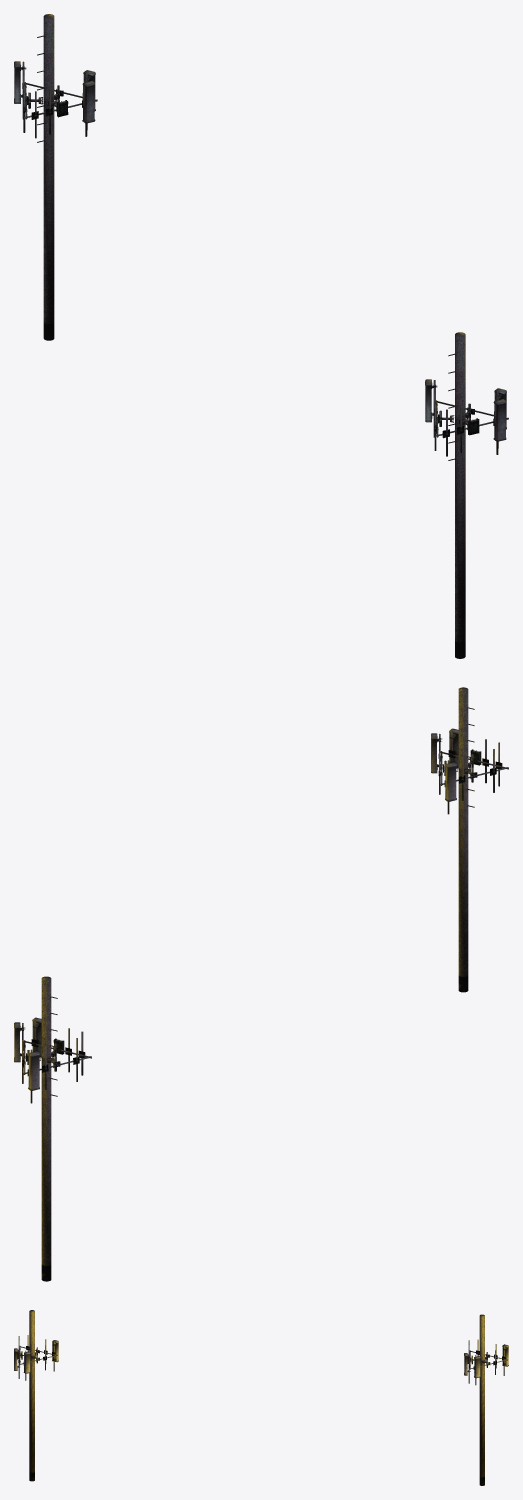
3 renders of one model, top to bottom at view 1: azimuth 30°, elevation 25°; view 2: azimuth 150°, elevation 25°; view 3: azimuth 270°, elevation 25°, orthographic. The views are drawn at different scales.
Visible parts, largest first — view 1: pole; view 2: pole; view 3: pole.
Boxes of the visible parts, left/top/right/bottom form: pole: left=14, top=14, right=508, bottom=658; pole: left=14, top=687, right=508, bottom=1281; pole: left=14, top=1310, right=508, bottom=1485.
Bounding box in the file's own units: 5.31 × 17.21 × 45.66.
1 material, 1 textured.
